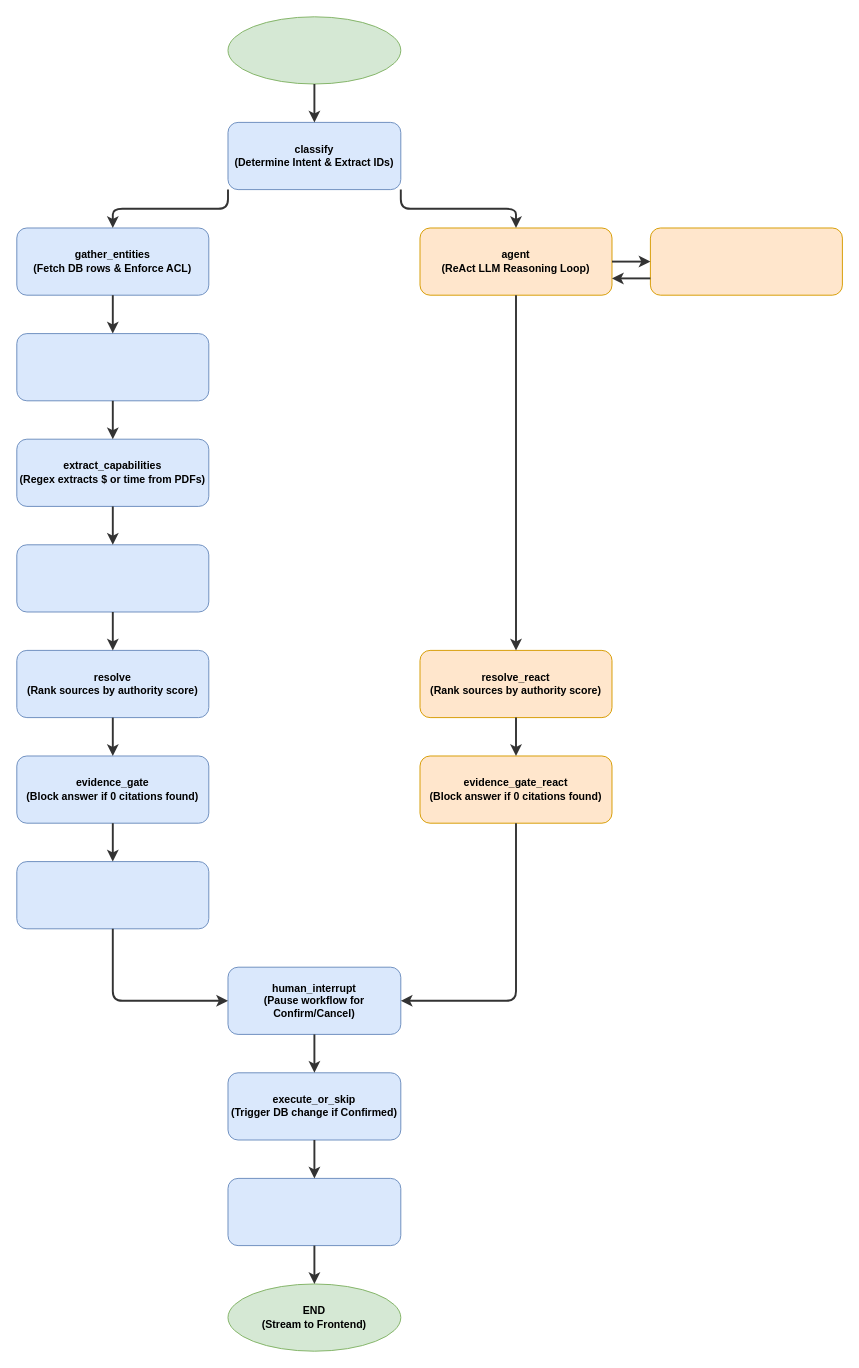
This 859x1368 diagram has some shape labels left out. The shapes that lost their labels are listed below. From the top down, each one's centre as x and y in pixels, then its label:
(x=314, y=50): START (User Message Arrives)
(x=745, y=261): tools [search_docs, get_ticket, get_order, query_orders, calculators, etc]
(x=112, y=367): retrieve_documents (Mandatory PGVector search)
(x=112, y=578): compute (Run pure-math Python calculators)
(x=112, y=895): maybe_prepare_action (Save escalation draft in DB)
(x=314, y=1211): compose_answer (Validate output via Pydantic JSON)
